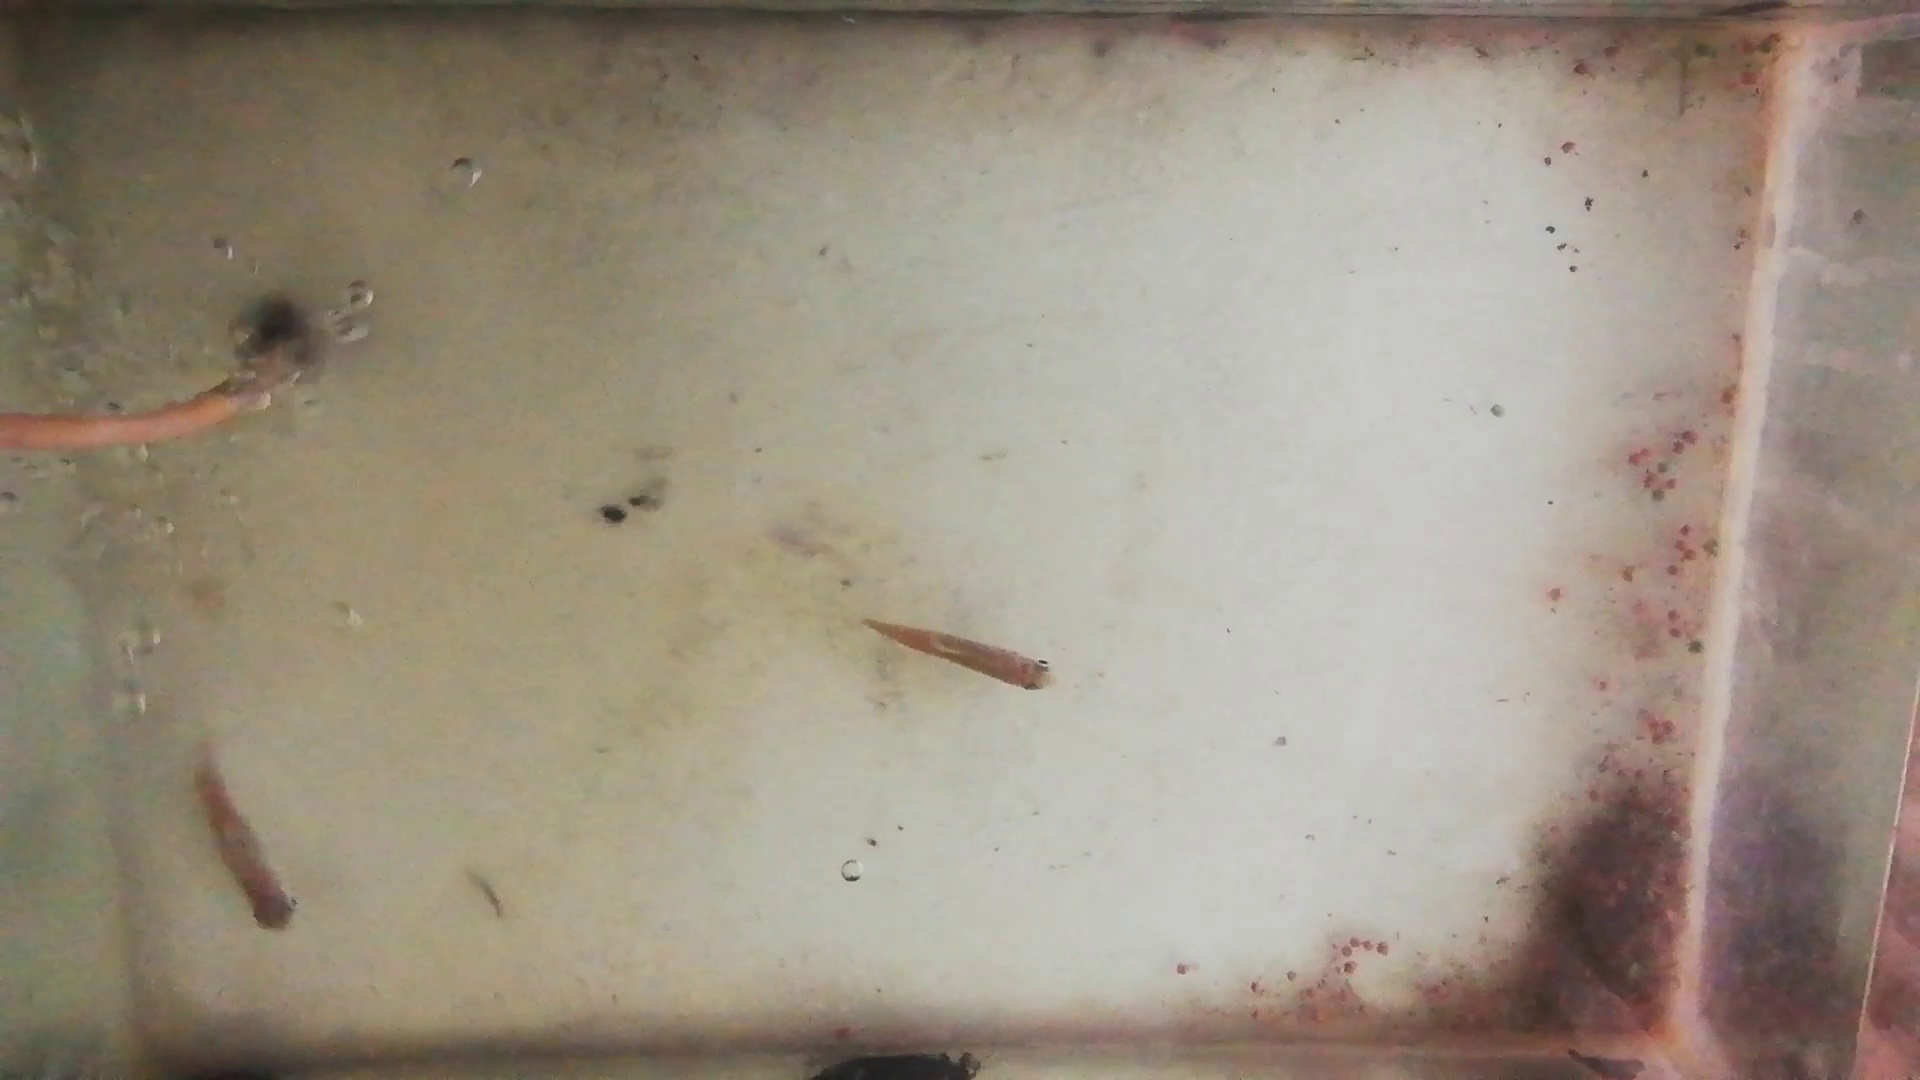fish: (196, 744, 298, 934), (861, 618, 1056, 694)
